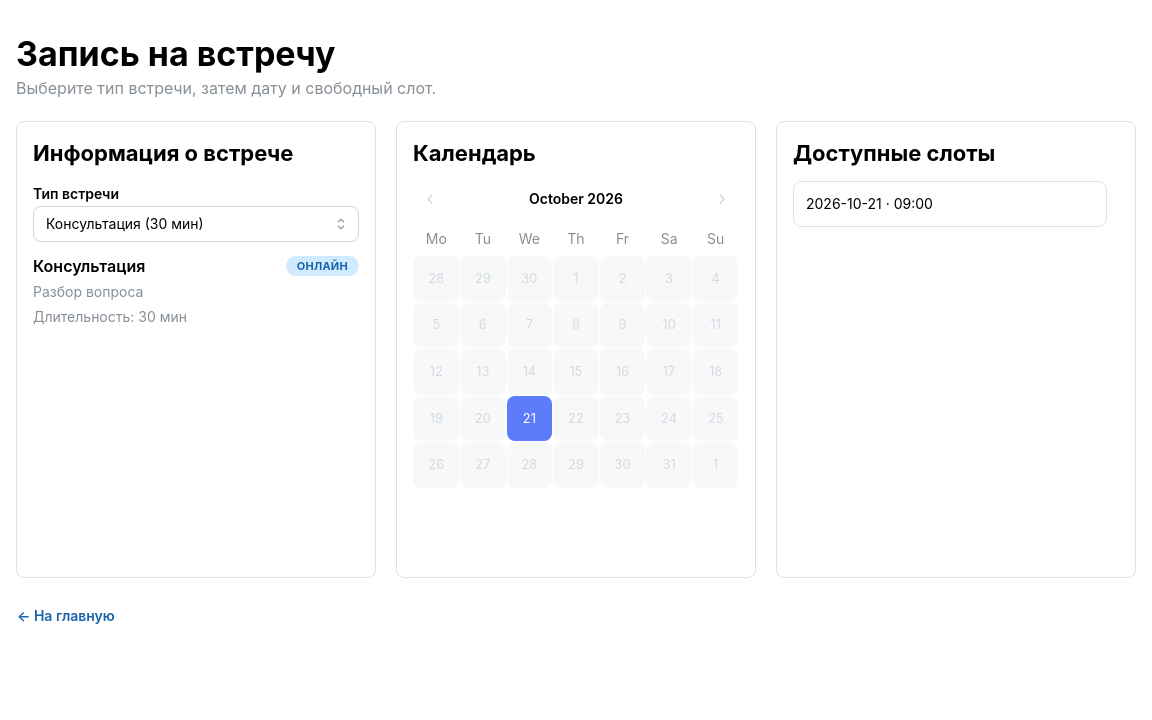
Scenario: Календарь и слоты › пересчитывает слоты при смене типа
Expected: the text "2026-10-21 · 09:00" is shown, [806,194,933,214]
Step 1. Select "Созвон (15 мин)" in the dropdown labelled "Тип встречи" → (196, 224), box [33,206,359,242]
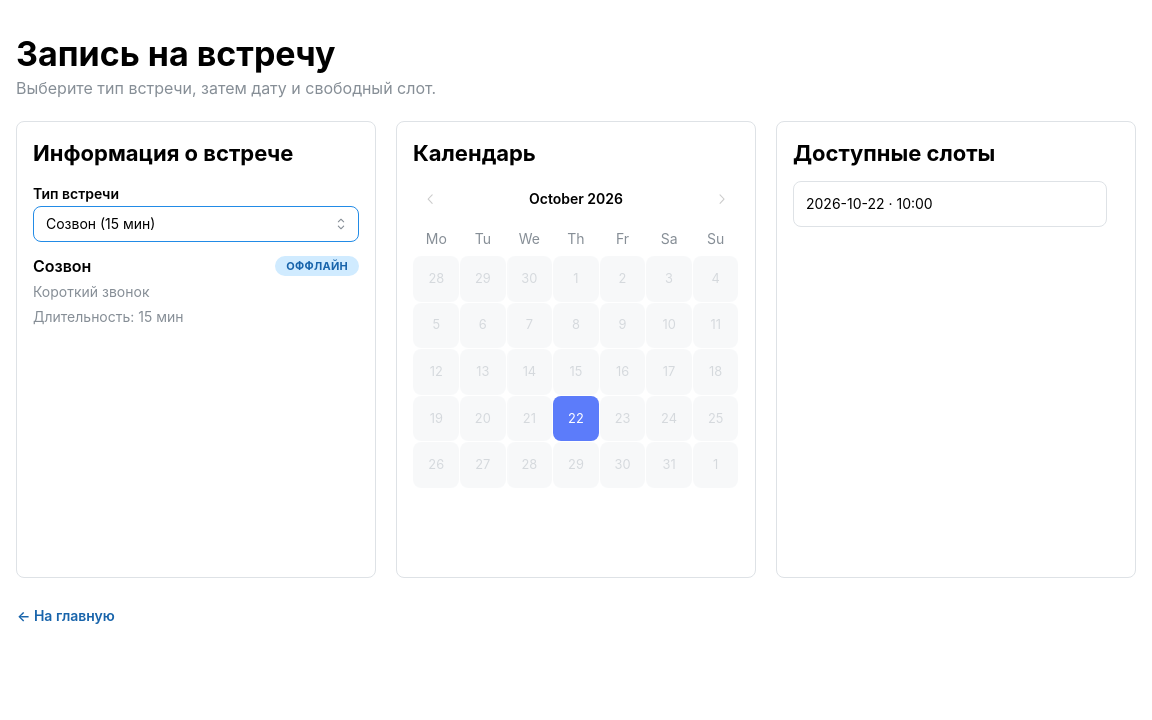
Now the text "2026-10-22 · 10:00" is shown, box [806,194,933,214]
Now the button "2026-10-21 · 09:00" is gone
